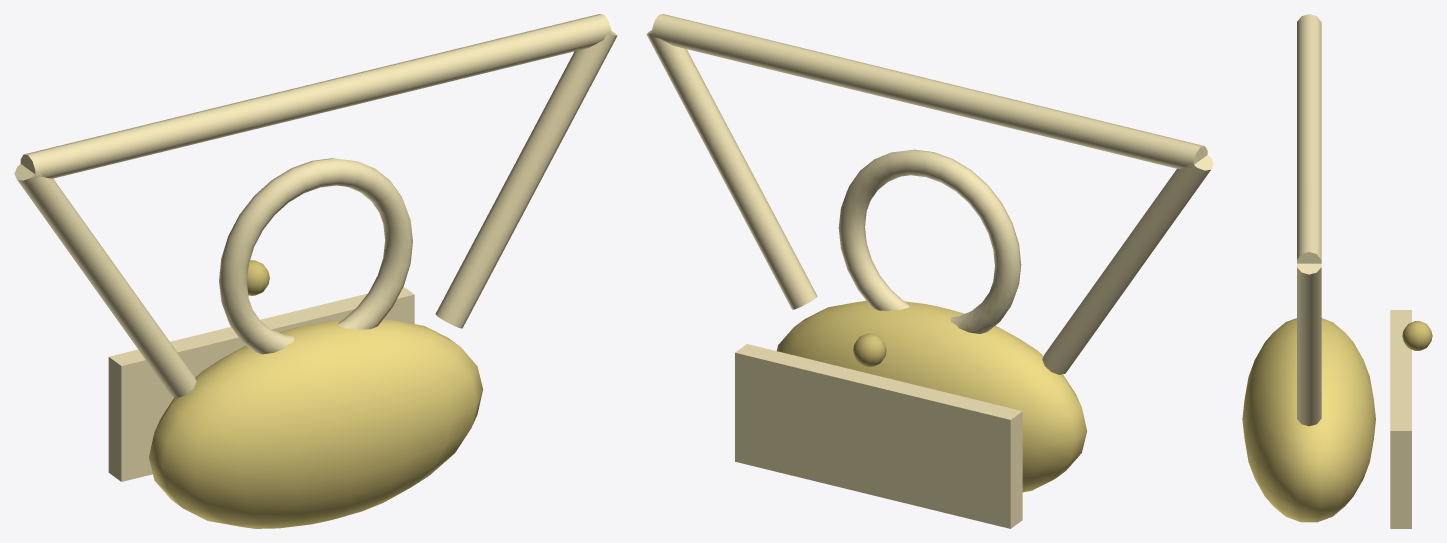
File: VM-CAB-SH13051530.glb
3 views of the same model, side by side, from view 1: azimuth 30°, elevation 25°; view 2: azimuth 150°, elevation 25°; view 3: azimuth 270°, elevation 25° (orthographic). The views are drawn at different scales.
Parts seen in each view (by area): view 1: Bolso Bandolera Multifuncional; view 2: Bolso Bandolera Multifuncional; view 3: Bolso Bandolera Multifuncional.
Boxes of the visible parts, x1,y1,x2,y2 form: Bolso Bandolera Multifuncional: [14, 14, 617, 528]; Bolso Bandolera Multifuncional: [646, 14, 1213, 528]; Bolso Bandolera Multifuncional: [1242, 14, 1432, 528].
Size of the model in its own units: 0.5665 by 0.391 by 0.1843.
